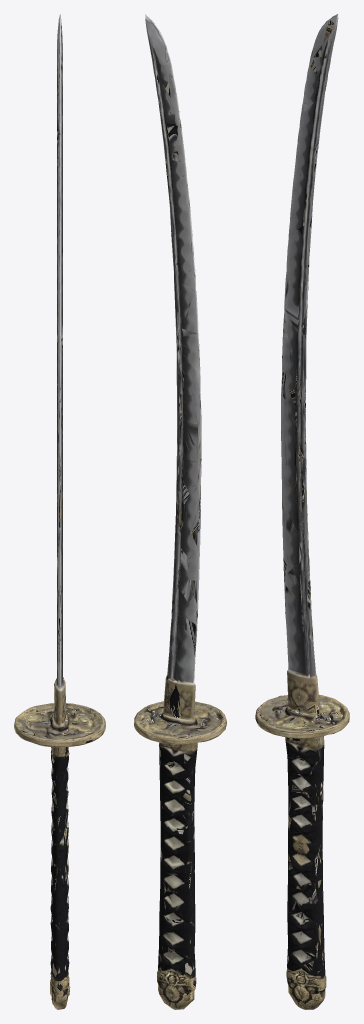
File: weapon_japan_tachi_lod1.glb
3 renders of one model, left to right at view 1: azimuth 90°, elevation 25°; view 2: azimuth 150°, elevation 25°; view 3: azimuth 330°, elevation 25°, orthographic. The views are drawn at different scales.
Bounding box in the file's own units: 0.0923 × 1.08 × 0.0919.
1 material, 1 textured.
